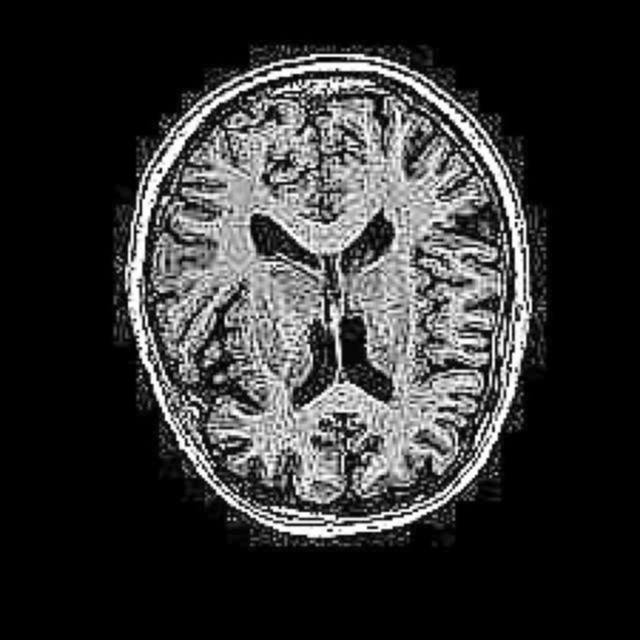glioma tumor: (179, 108, 492, 472)
